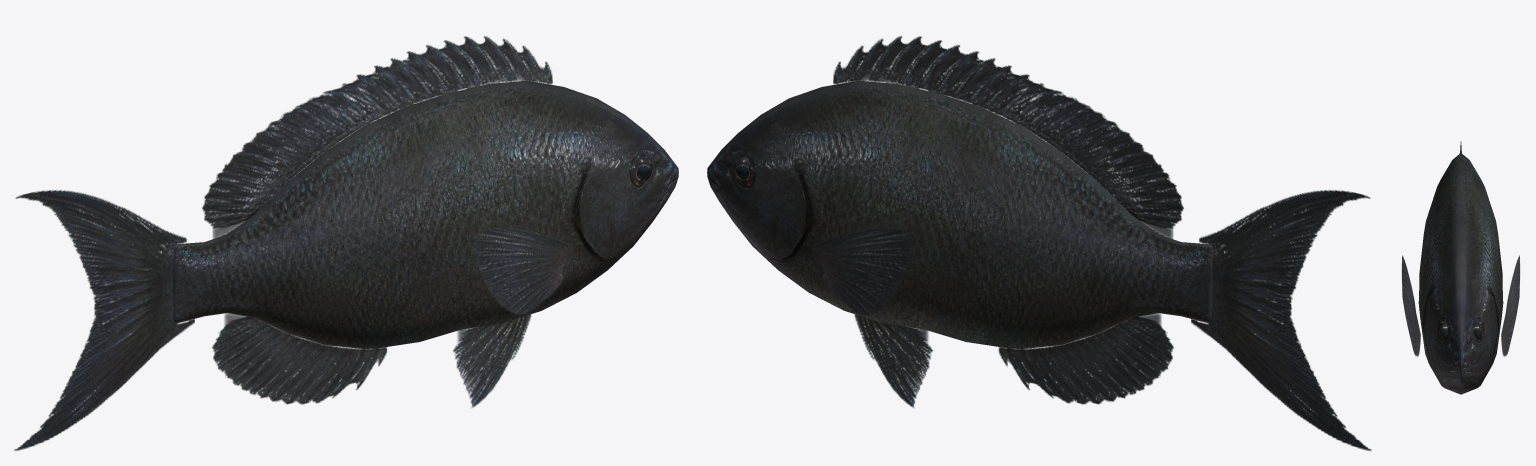
File: onagagure_lo.glb
3 renders of one model, left to right at view 1: azimuth 30°, elevation 25°; view 2: azimuth 150°, elevation 25°; view 3: azimuth 270°, elevation 25°, orthographic. The views are drawn at different scales.
Visible parts, largest first — view 1: onagagure; view 2: onagagure; view 3: onagagure.
Part boxes in pixels (x1,y1,x2,y2): onagagure: (14, 36, 678, 450); onagagure: (707, 36, 1371, 450); onagagure: (1401, 141, 1520, 394).
Size of the model in its own units: 0.4507 by 0.2428 by 0.0938.
Materials: 1 (1 with a texture image).
